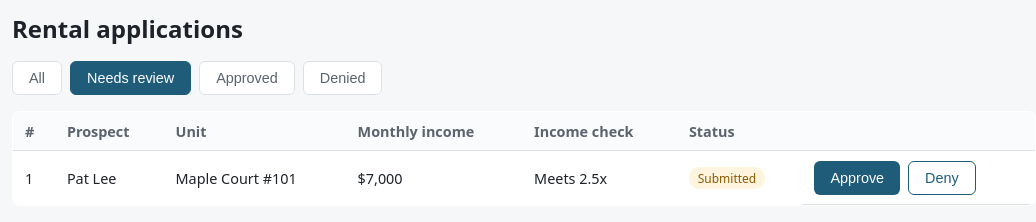
Scenario: AgentDashboard › approves an application and refreshes the list
Click the button "Approve" at (857, 178), box [814, 161, 900, 195]
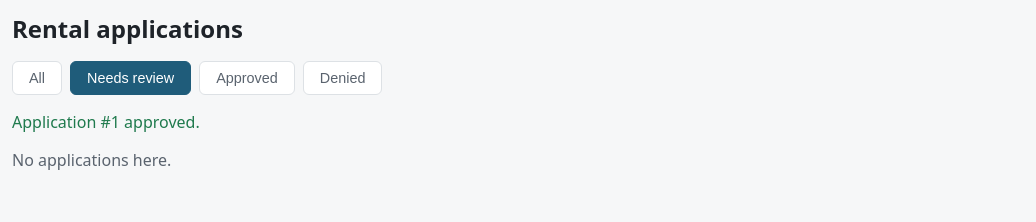
Now the message reads "Application #1 approved.", box [12, 111, 200, 133]
Now the text "No applications here." is shown, box [12, 149, 171, 171]
